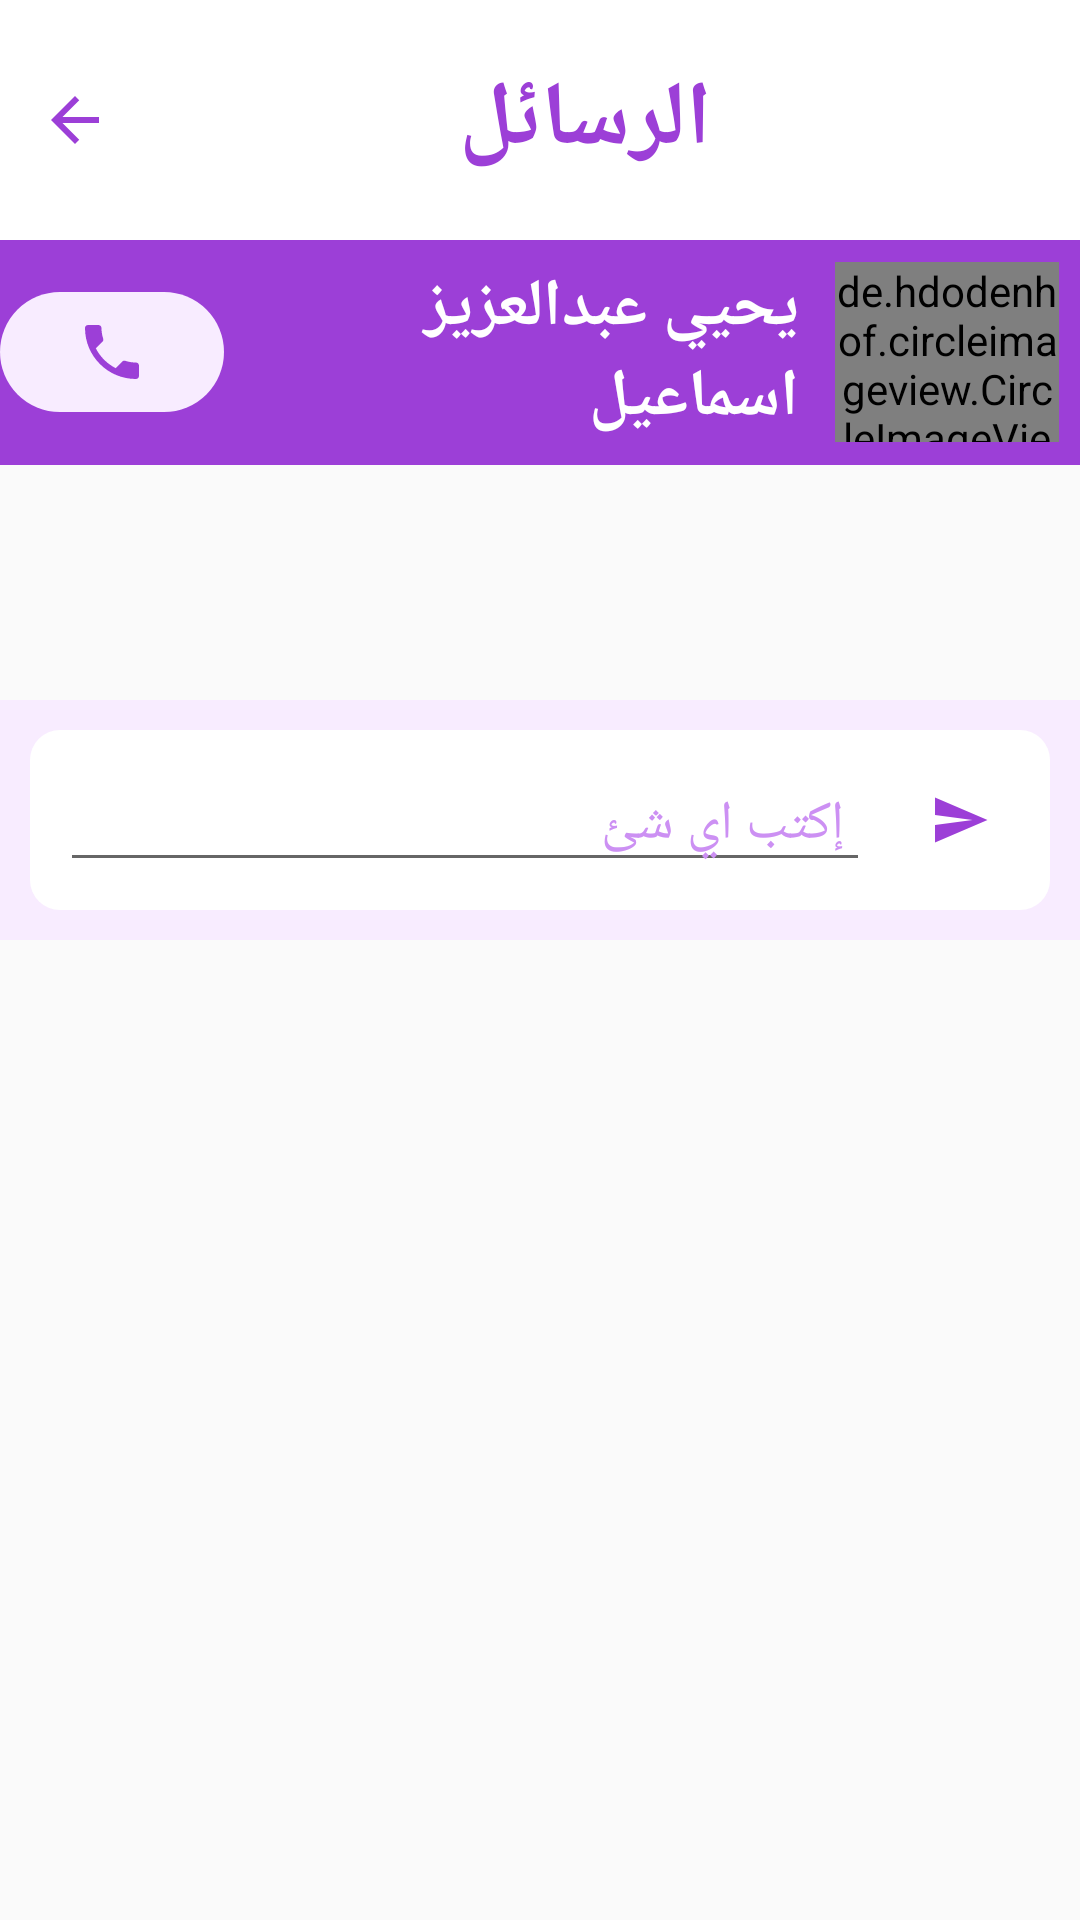

Where to tap for icons on this 1080px×1920px app screen, as (x,y):
back: (75,120)
call: (112,352)
send: (961,820)
